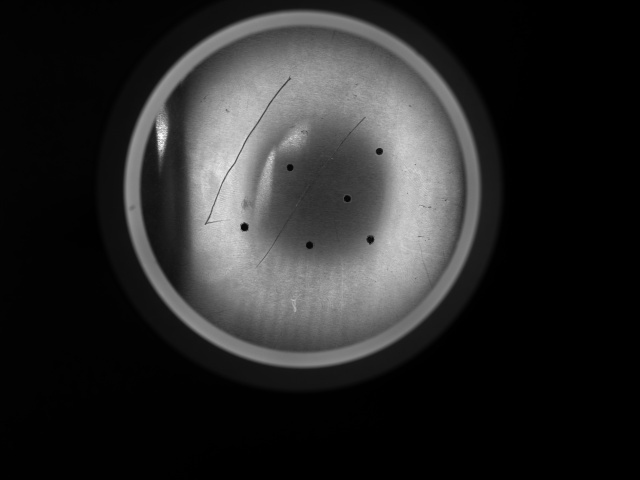ca_shang: (265, 103, 379, 268), (204, 65, 296, 224)
zhen_kong: (356, 226, 386, 254), (297, 233, 323, 261), (368, 138, 393, 164), (234, 214, 256, 240), (336, 186, 359, 210), (279, 155, 301, 179)
